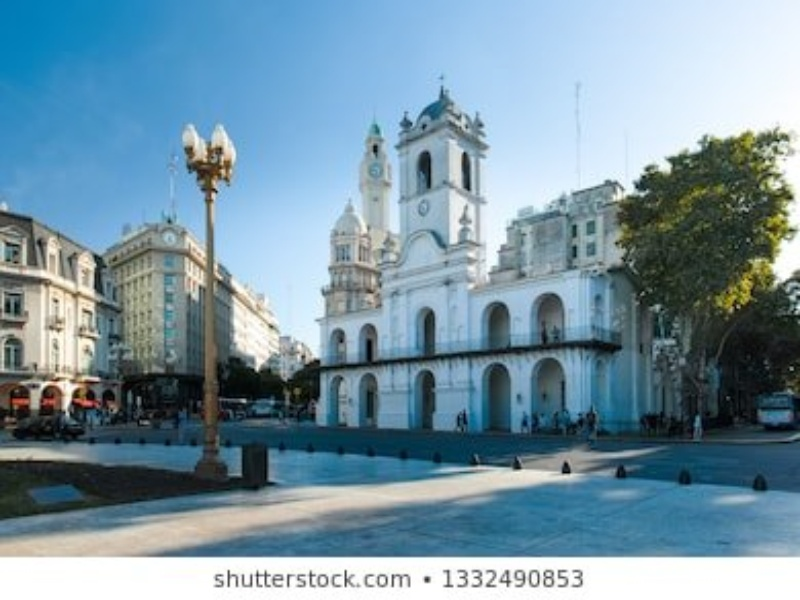cabildo: (314, 73, 622, 439)
